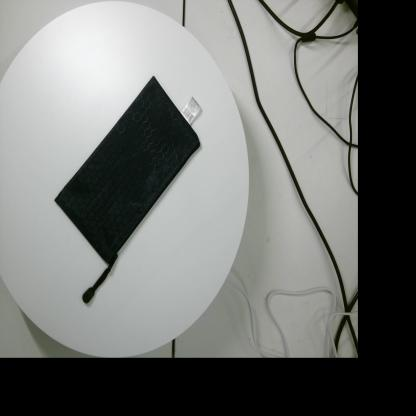Stationery: (54, 75, 202, 304)
